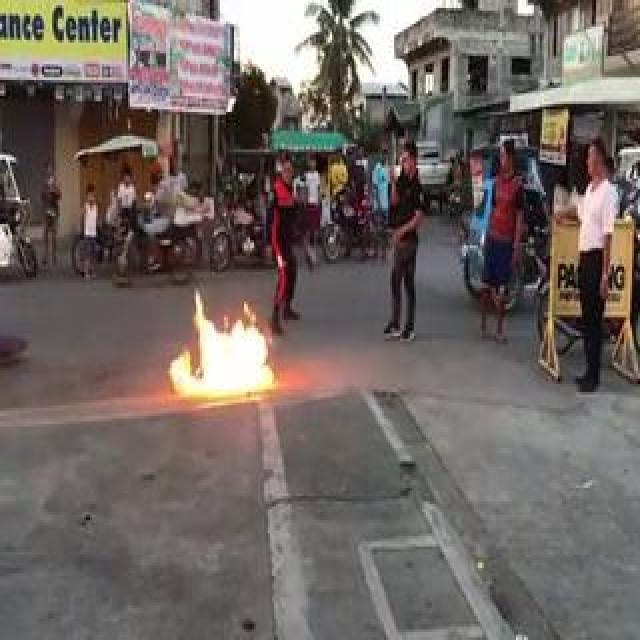Smoke: (167, 280, 277, 400)
